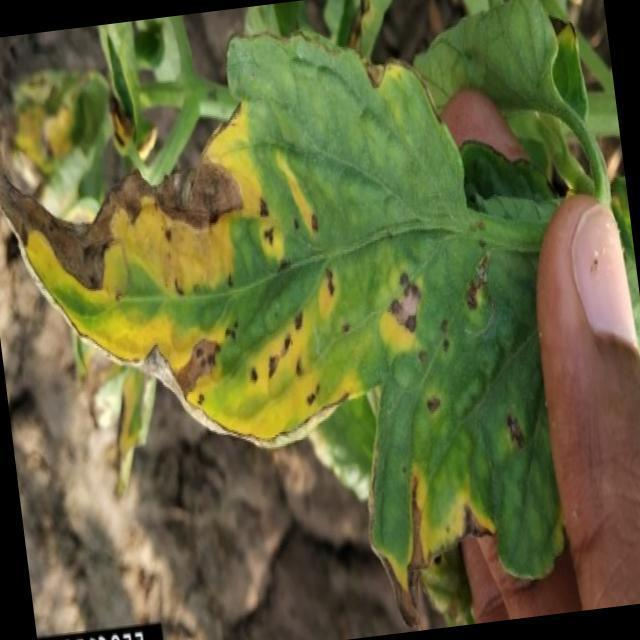Bacterial Spot: (173, 214, 532, 436)
